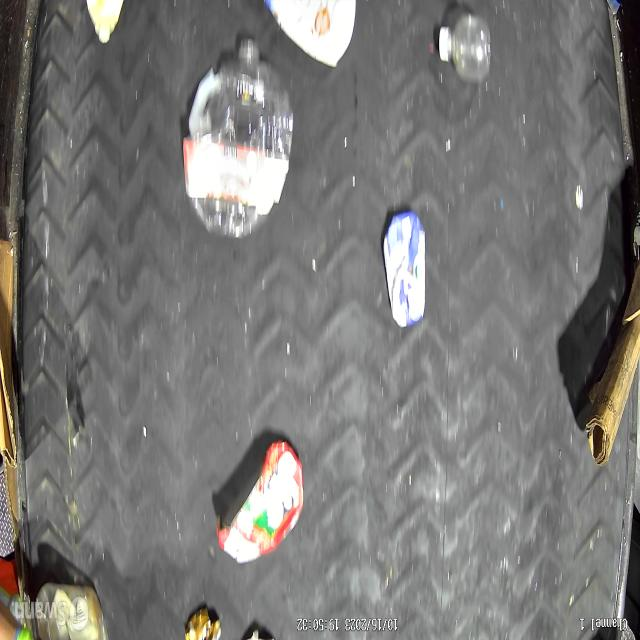plastic_bottle: (184, 42, 296, 235), (438, 8, 496, 92)
